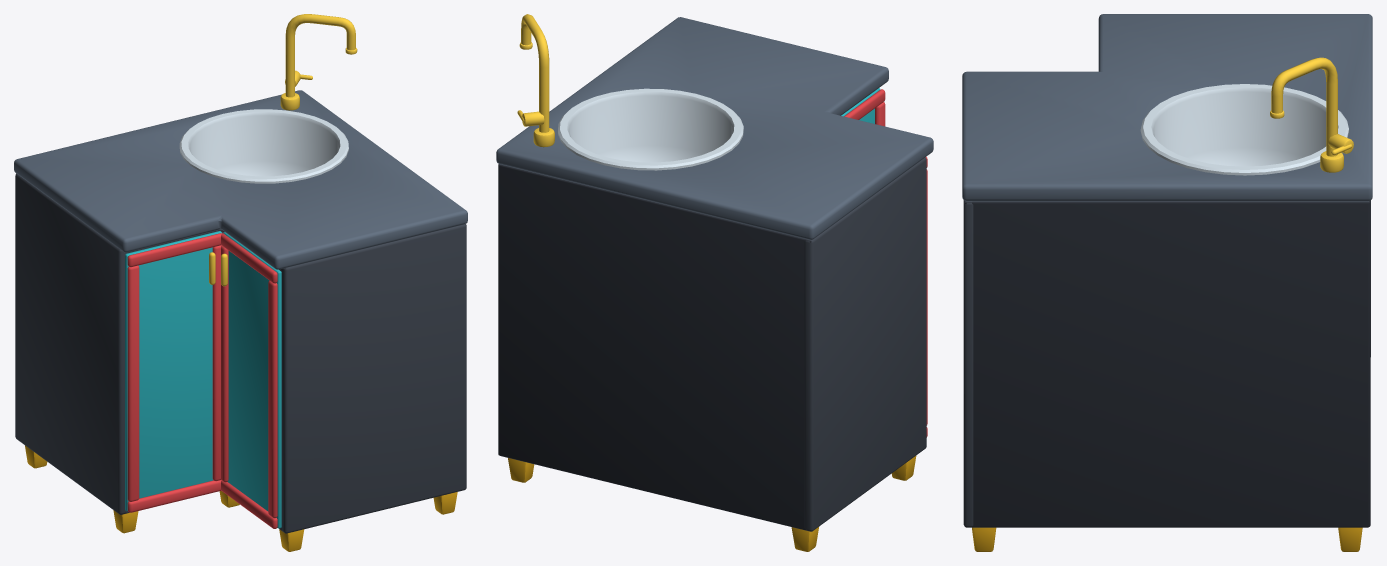
Rendered from armario_cozinha_canto_pia_grafite.glb.
3 views of the same model, side by side, from view 1: azimuth 30°, elevation 25°; view 2: azimuth 150°, elevation 25°; view 3: azimuth 270°, elevation 25° (orthographic). The views are drawn at different scales.
Visible parts, largest first — view 1: armario_cozinha_canto_pia_grafite, porta_1, porta_2; view 2: armario_cozinha_canto_pia_grafite, porta_2, porta_1; view 3: armario_cozinha_canto_pia_grafite.
Part boxes in pixels (box(x1,y1,x2,y2)): armario_cozinha_canto_pia_grafite: box(14, 14, 467, 551); porta_1: box(125, 231, 221, 512); porta_2: box(221, 232, 281, 528); armario_cozinha_canto_pia_grafite: box(496, 14, 933, 551); porta_2: box(841, 88, 885, 126); porta_1: box(925, 157, 927, 437); armario_cozinha_canto_pia_grafite: box(962, 14, 1372, 551).
Bounding box in the file's own units: 0.946 × 1.18 × 0.899.
1 material, 1 textured.
